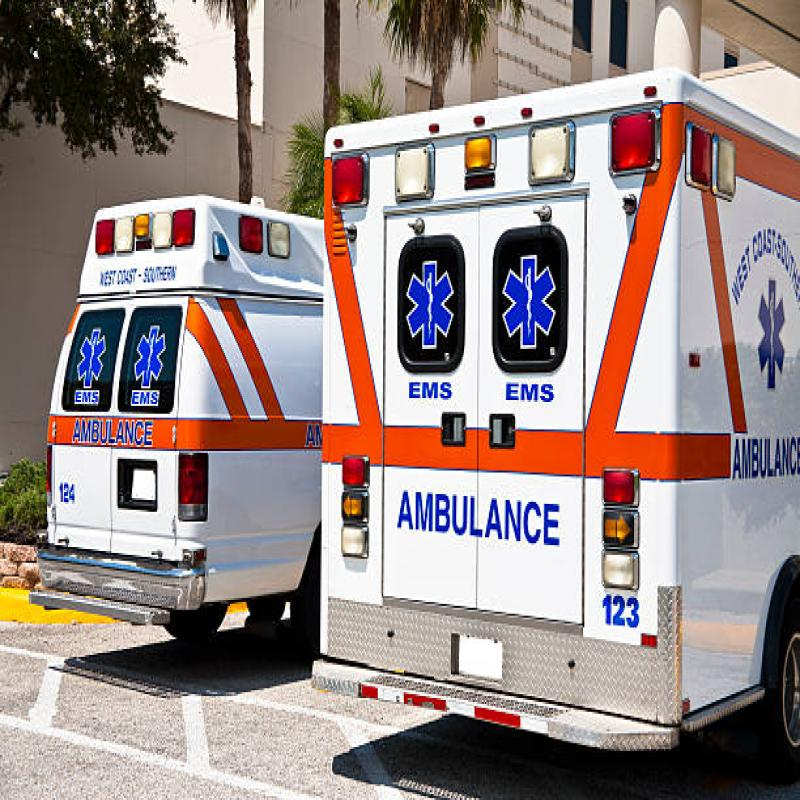ambulance: (298, 40, 800, 767), (31, 159, 332, 708)
